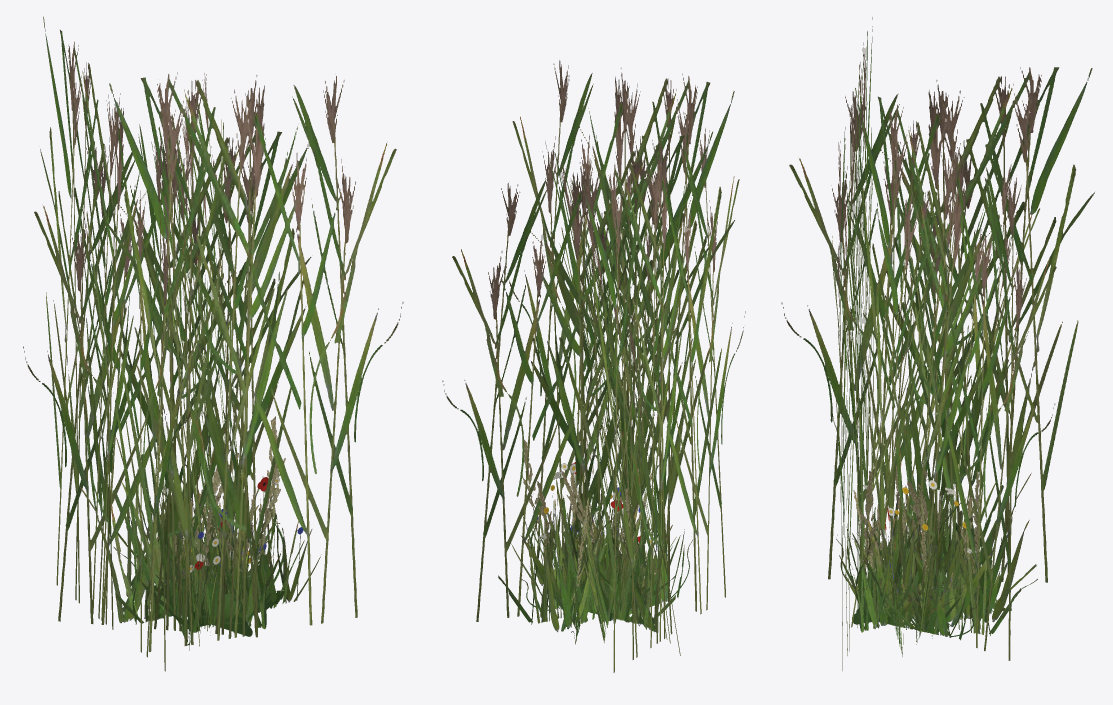
File: groundcover.glb
The picture shows the model from 3 angles, left to right: view 1: azimuth 30°, elevation 25°; view 2: azimuth 150°, elevation 25°; view 3: azimuth 270°, elevation 25°; orthographic projection. The views are drawn at different scales.
Visible parts, largest first — view 1: gc_reed, gc_flower, gc_tall, gc_weed, gc_grass; view 2: gc_reed, gc_tall, gc_flower, gc_weed, gc_grass; view 3: gc_reed, gc_tall, gc_flower, gc_grass, gc_weed.
Boxes of the visible parts, bbox=[...] form: gc_reed: bbox=[23, 16, 403, 671]; gc_flower: bbox=[127, 477, 321, 635]; gc_tall: bbox=[80, 416, 285, 633]; gc_weed: bbox=[176, 538, 284, 650]; gc_grass: bbox=[113, 531, 266, 634]; gc_reed: bbox=[442, 60, 745, 672]; gc_tall: bbox=[522, 425, 672, 642]; gc_flower: bbox=[498, 462, 675, 624]; gc_weed: bbox=[577, 529, 692, 623]; gc_grass: bbox=[521, 541, 675, 644]; gc_reed: bbox=[781, 17, 1094, 670]; gc_tall: bbox=[855, 456, 1031, 644]; gc_flower: bbox=[839, 480, 1021, 656]; gc_grass: bbox=[844, 545, 1037, 640]; gc_weed: bbox=[836, 507, 966, 643].
Bounding box in the file's own units: 1.11 × 2.05 × 1.08.
1 material, 1 textured.
